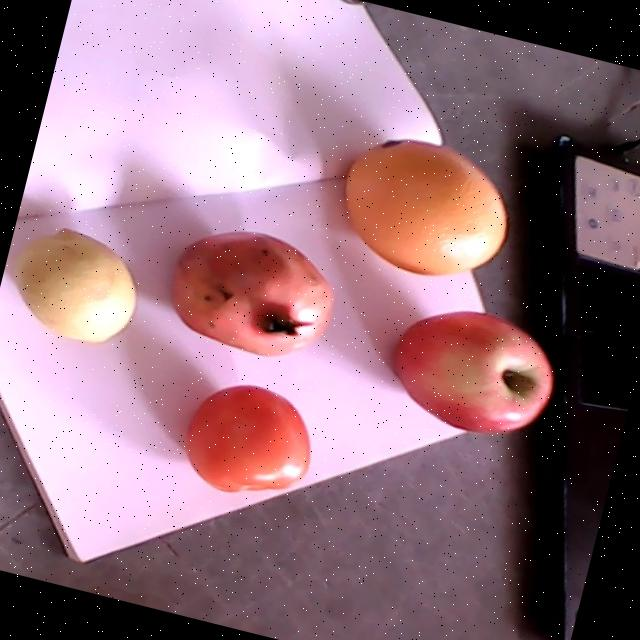apple: (395, 310, 551, 433)
lemon: (19, 228, 134, 344)
orange: (341, 138, 505, 274)
pomegranate: (170, 230, 333, 356)
tomato: (188, 385, 309, 493)
